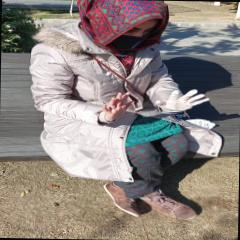gloved: (155, 89, 210, 115)
not-gloved: (103, 91, 136, 121)
